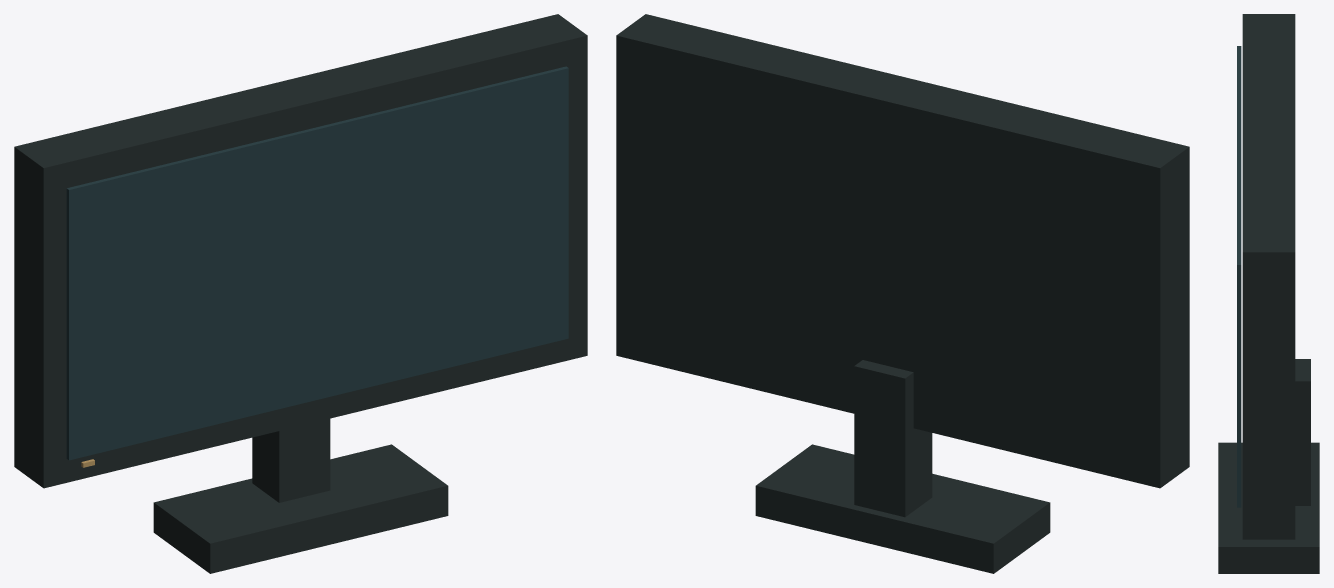
File: LP_Monitor.fbx
3 views of the same model, side by side, from view 1: azimuth 30°, elevation 25°; view 2: azimuth 150°, elevation 25°; view 3: azimuth 270°, elevation 25° (orthographic). The views are drawn at different scales.
Parts seen in each view (by area): view 1: ScreenGlass, Charcoal; view 2: Charcoal; view 3: Charcoal, ScreenGlass.
Boxes of the visible parts, left/top/right/bottom form: ScreenGlass: left=66, top=66, right=568, bottom=460; Charcoal: left=14, top=14, right=587, bottom=573; Charcoal: left=616, top=14, right=1189, bottom=573; Charcoal: left=1218, top=14, right=1319, bottom=573; ScreenGlass: left=1237, top=46, right=1241, bottom=507.
Size of the model in its own units: 64 by 48.7 by 11.5.
